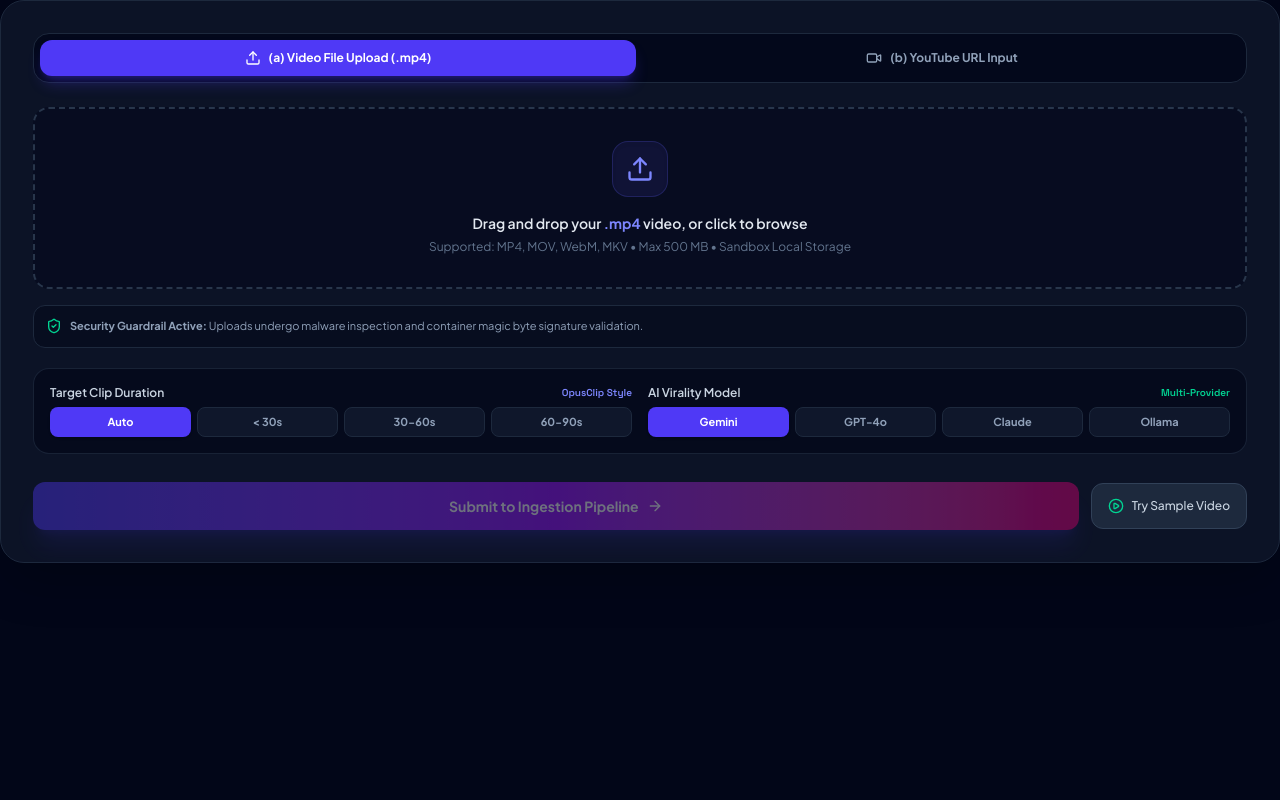
it: IngestionFlow Component › displays clear Backend Server Offline banner when backend port is unreachable
Click the button "(b) YouTube URL Input".
click(942, 58)  # box [644,40,1240,76]
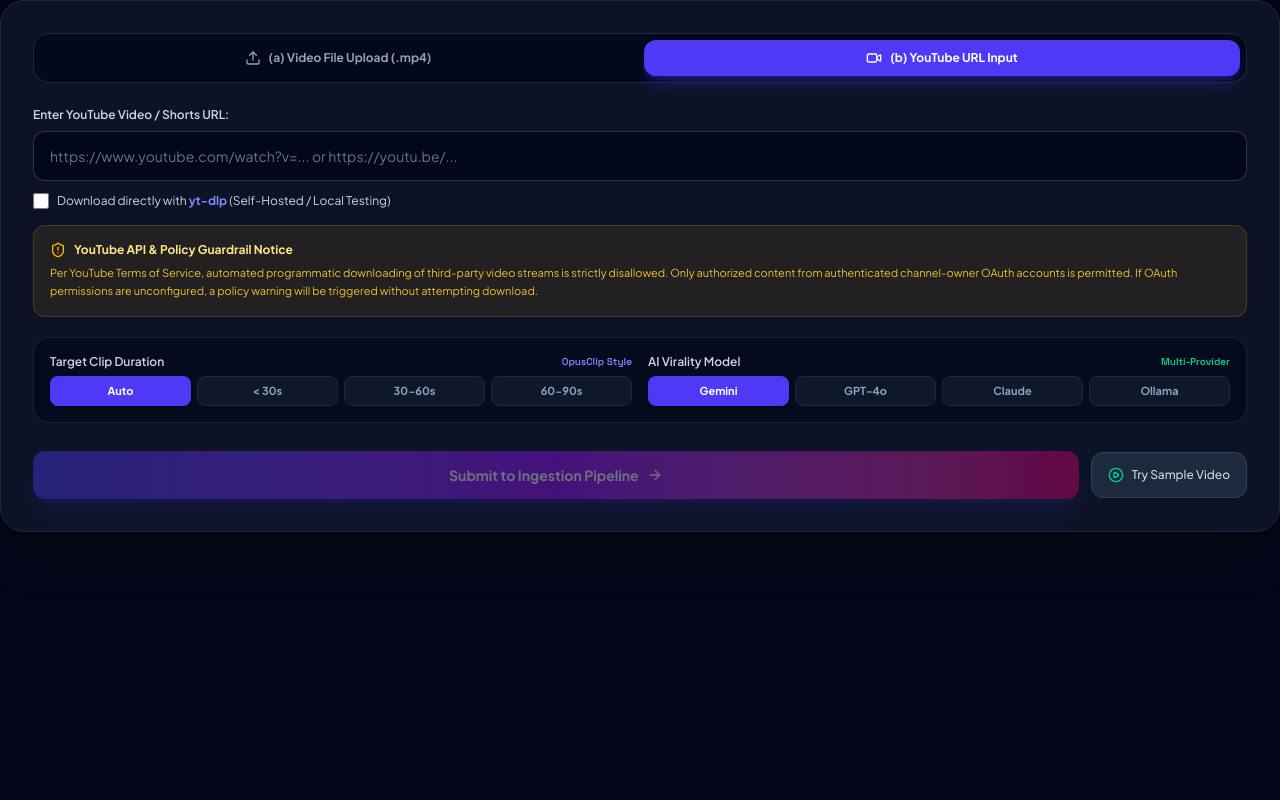
Type "https://www.youtube.com/watch?v=dQw4w9WgXcQ" into the field with placeholder "https://www.youtube.com/watch?v=... or https://youtu.be/...".
click(640, 156); type("https://www.youtube.com/watch?v=dQw4w9WgXcQ")  # box [33,131,1247,181]
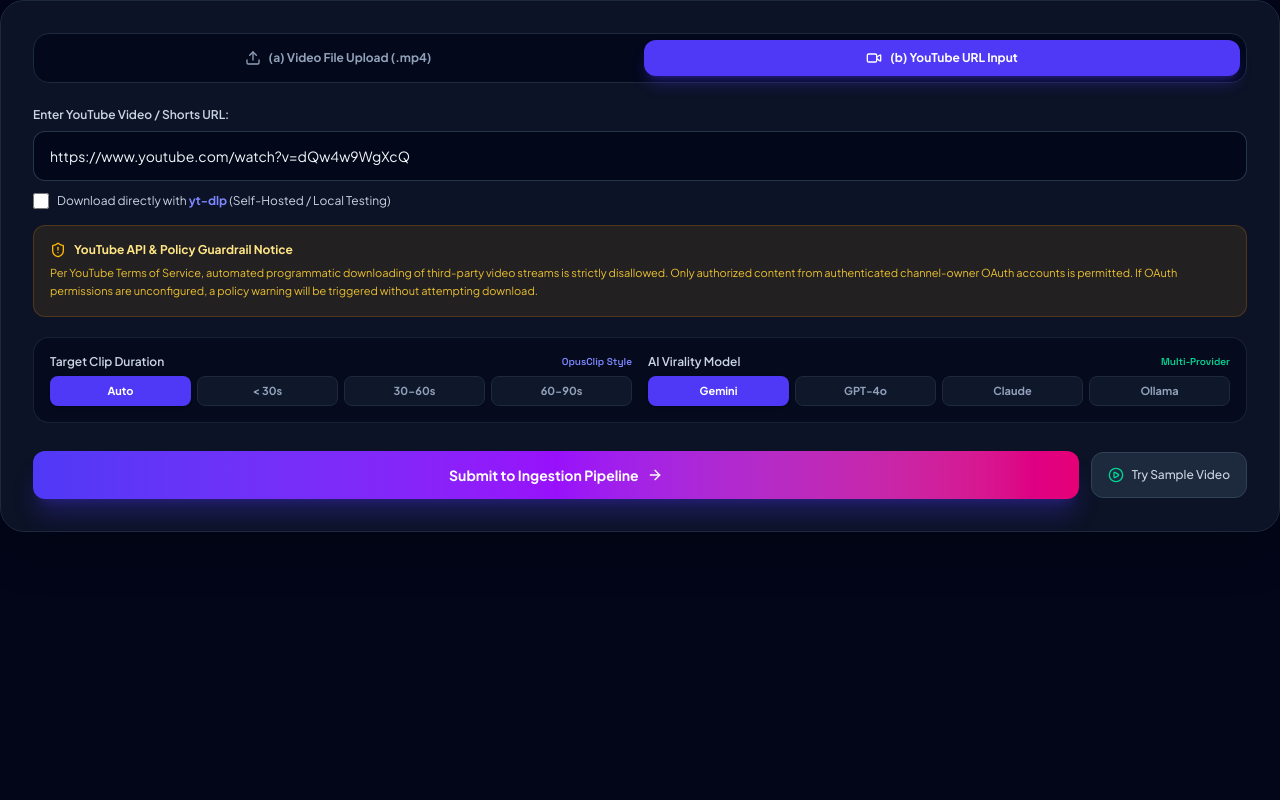
Click the button "Submit to Ingestion Pipeline".
click(556, 475)  # box [33,451,1079,499]
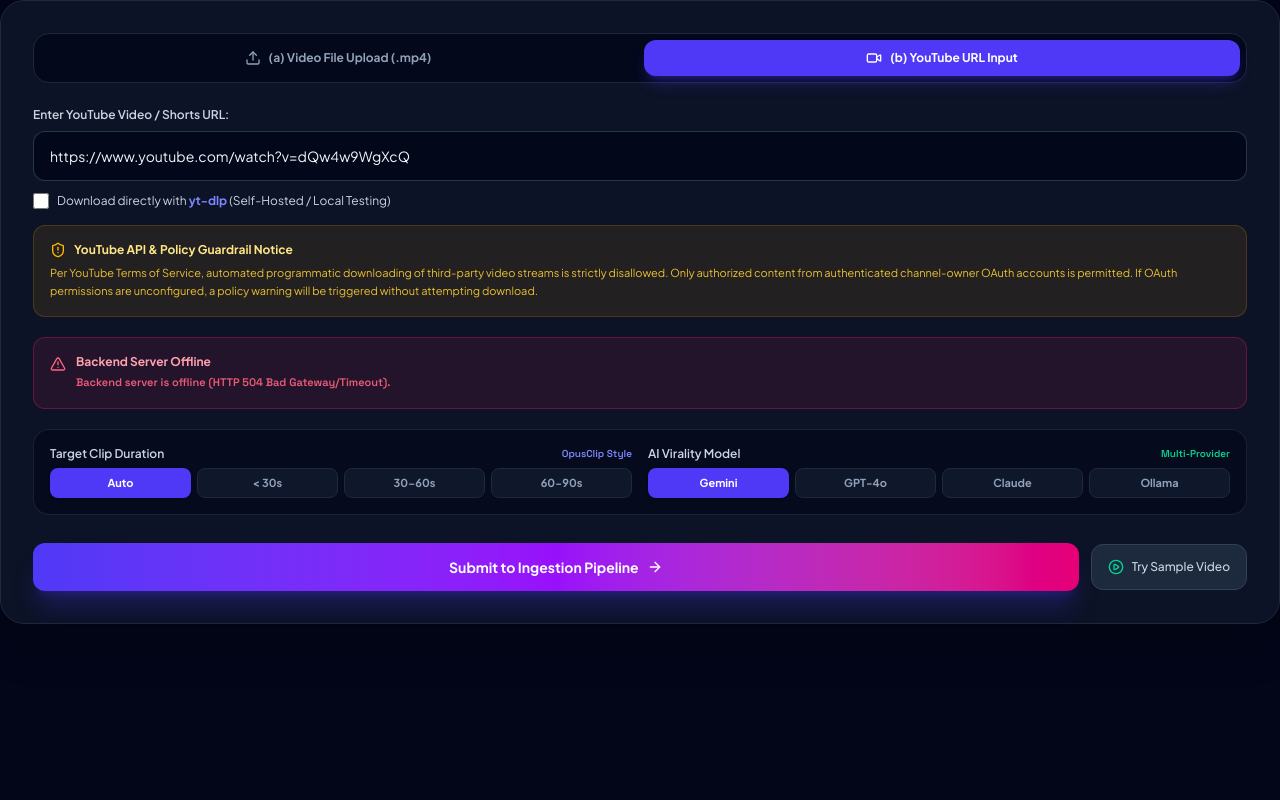
Result: the text "Backend Server Offline" is shown at [76,354,211,369]
Result: the text "Backend server is offline (HTTP 504 Bad Gateway/Timeout)." is shown at [76,375,390,389]
